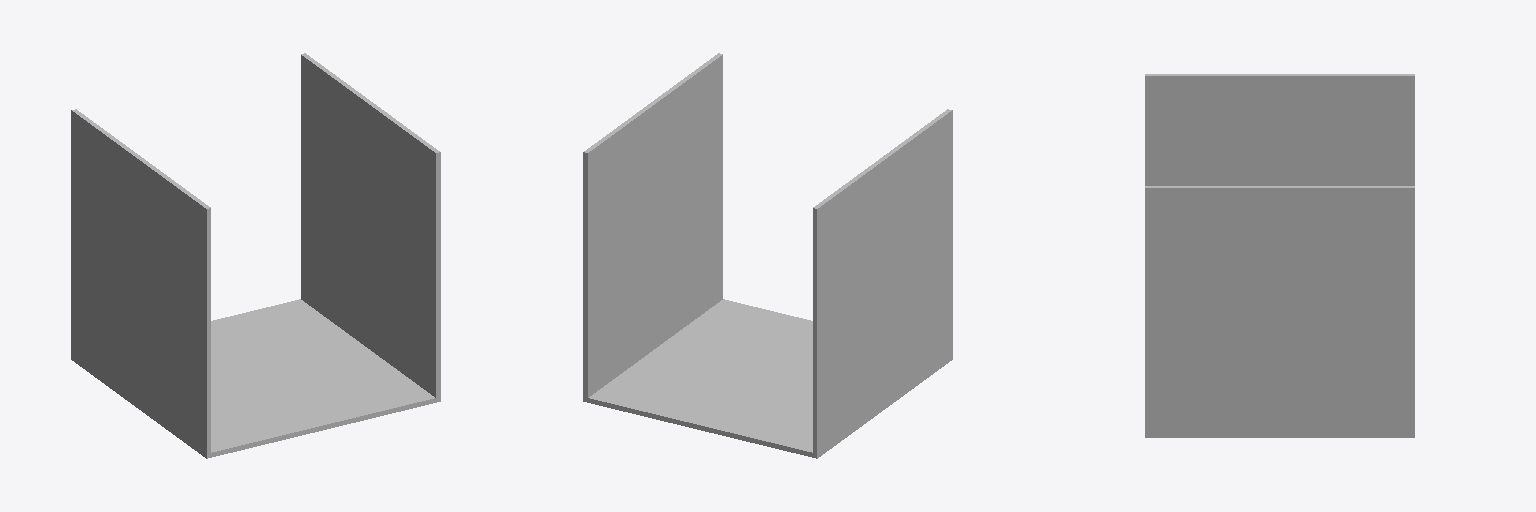
File: TileCorridor.obj
3 views of the same model, side by side, from view 1: azimuth 30°, elevation 25°; view 2: azimuth 150°, elevation 25°; view 3: azimuth 270°, elevation 25° (orthographic).
Parts seen in each view (by area): view 1: Tile_copy9, Tile_copy12, Tile; view 2: Tile_copy9, Tile_copy12, Tile; view 3: Tile_copy9, Tile_copy12, Tile.
Part boxes in pixels (x1,y1,x2,y2): Tile_copy9: (301,53,440,397); Tile_copy12: (71,109,210,453); Tile: (71,299,440,458); Tile_copy9: (583,53,722,397); Tile_copy12: (813,109,952,453); Tile: (583,299,952,458); Tile_copy9: (1145,186,1414,432); Tile_copy12: (1145,74,1414,185); Tile: (1145,433,1414,437).
Size of the model in its own units: 5 by 5.1 by 5.